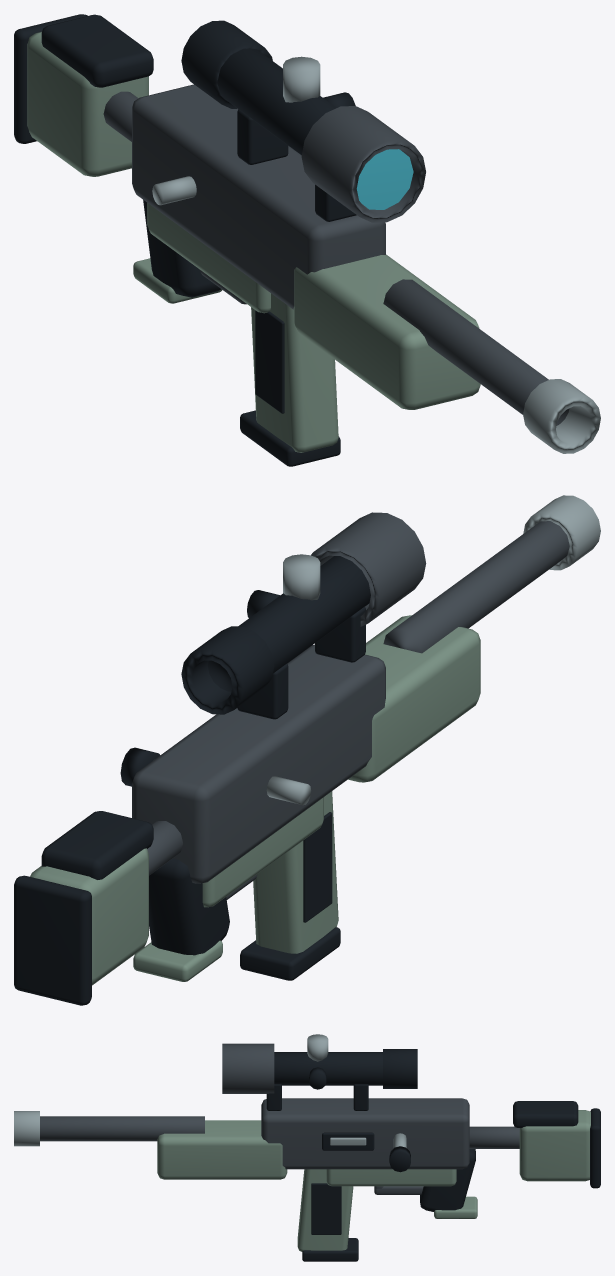
Rendered from svd.glb.
3 renders of one model, top to bottom at view 1: azimuth 30°, elevation 25°; view 2: azimuth 150°, elevation 25°; view 3: azimuth 270°, elevation 25°, orthographic. The views are drawn at different scales.
Parts seen in each view (by area): view 1: svd_Cerakote graphite, svd_svd painted furniture, svd_Recesses and rubber, svd_Machined edges, svd_Optic blue glass; view 2: svd_Cerakote graphite, svd_Recesses and rubber, svd_svd painted furniture, svd_Machined edges; view 3: svd_Cerakote graphite, svd_svd painted furniture, svd_Recesses and rubber, svd_Machined edges.
Part boxes in pixels (x1,y1,x2,y2): svd_Cerakote graphite: (103, 84, 569, 425); svd_svd painted furniture: (27, 31, 480, 452); svd_Recesses and rubber: (14, 14, 356, 466); svd_Machined edges: (152, 56, 600, 453); svd_Optic blue glass: (356, 149, 413, 209); svd_Cerakote graphite: (132, 512, 569, 899); svd_Recesses and rubber: (14, 556, 370, 1005); svd_svd painted furniture: (30, 615, 480, 985); svd_Machined edges: (266, 495, 600, 805); svd_Cerakote graphite: (40, 1043, 519, 1194); svd_svd painted furniture: (157, 1110, 590, 1251); svd_Recesses and rubber: (266, 1049, 600, 1261); svd_Machined edges: (14, 1034, 406, 1147).
Size of the model in its own units: 0.2678 by 0.5785 by 1.42.
